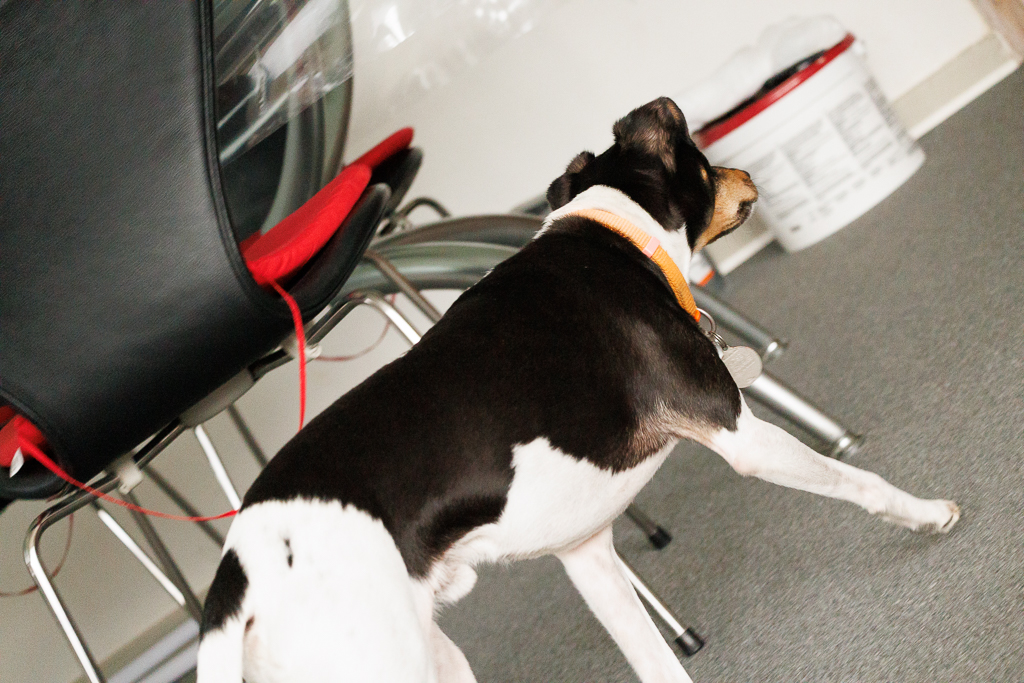Dog: (183, 88, 965, 683)
